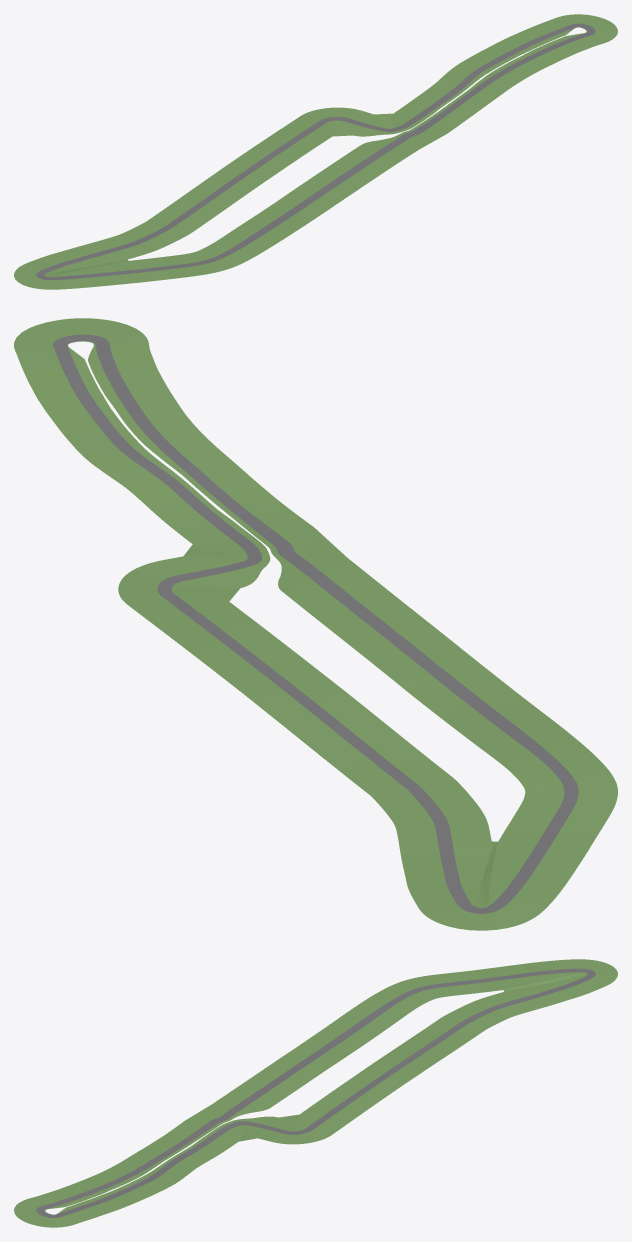
The model's file is road_mesh.glb.
The picture shows the model from 3 angles, top to bottom: view 1: azimuth 90°, elevation 25°; view 2: azimuth 150°, elevation 25°; view 3: azimuth 270°, elevation 25°; orthographic projection. The views are drawn at different scales.
Visible parts, largest first — view 1: road_12, road_00, road_04, road_01, road_05, road_02, road_06, road_03, road_09, road_08, road_10, road_11 (+1 smaller); view 2: road_00, road_12, road_04, road_01, road_05, road_02, road_06, road_03, road_09, road_08, road_10, road_11 (+1 smaller); view 3: road_00, road_12, road_02, road_01, road_05, road_04, road_06, road_03, road_09, road_11, road_08, road_10 (+1 smaller).
Part boxes in pixels (box(x1,y1,x2,y2)): road_12: box(299, 141, 414, 198); road_00: box(230, 186, 344, 244); road_04: box(132, 183, 245, 243); road_01: box(143, 232, 274, 280); road_05: box(201, 136, 314, 194); road_02: box(14, 259, 156, 289); road_06: box(270, 107, 387, 147); road_03: box(29, 229, 170, 272); road_09: box(525, 14, 617, 59); road_08: box(439, 30, 549, 86); road_10: box(458, 48, 561, 105); road_11: box(375, 97, 485, 151); road_00: box(377, 649, 568, 751); road_12: box(278, 563, 461, 667); road_04: box(285, 708, 472, 812); road_01: box(486, 733, 617, 840); road_05: box(176, 623, 366, 726); road_02: box(418, 831, 593, 930); road_06: box(118, 555, 263, 641); road_03: box(386, 799, 491, 906); road_09: box(14, 318, 165, 390); road_08: box(28, 375, 170, 483); road_10: box(102, 384, 249, 487); road_11: box(197, 476, 353, 579); road_00: box(287, 1005, 401, 1065); road_12: box(217, 1053, 332, 1111); road_02: box(475, 959, 617, 991); road_01: box(357, 970, 488, 1017); road_05: box(318, 1054, 430, 1113); road_04: box(386, 1007, 500, 1066); road_06: box(244, 1102, 361, 1144); road_03: box(461, 977, 602, 1021); road_09: box(14, 1185, 106, 1227); road_11: box(146, 1101, 256, 1154); road_08: box(82, 1164, 192, 1213); road_10: box(70, 1147, 173, 1196).
Size of the model in its own units: 864 by 10.18 by 811.
